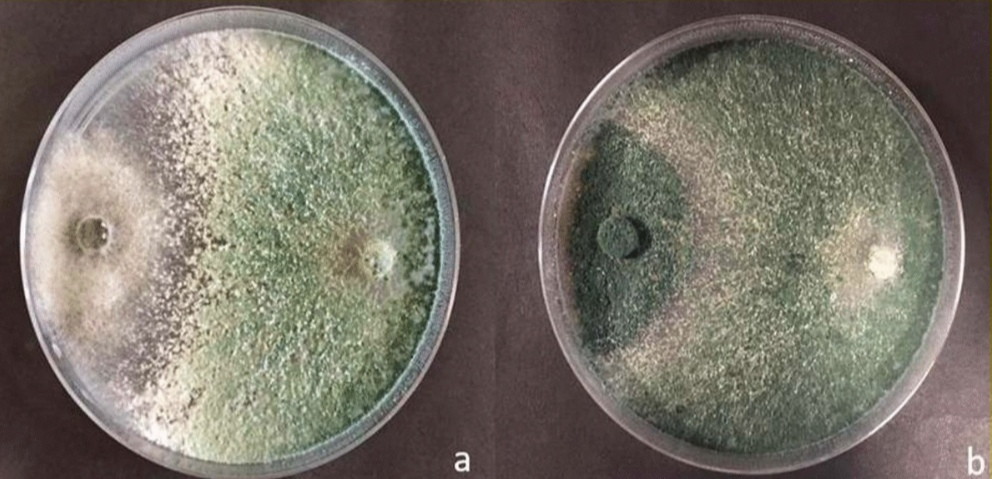Trichoderma: (704, 52, 906, 399), (191, 87, 381, 342), (40, 174, 184, 305), (576, 159, 679, 312)
